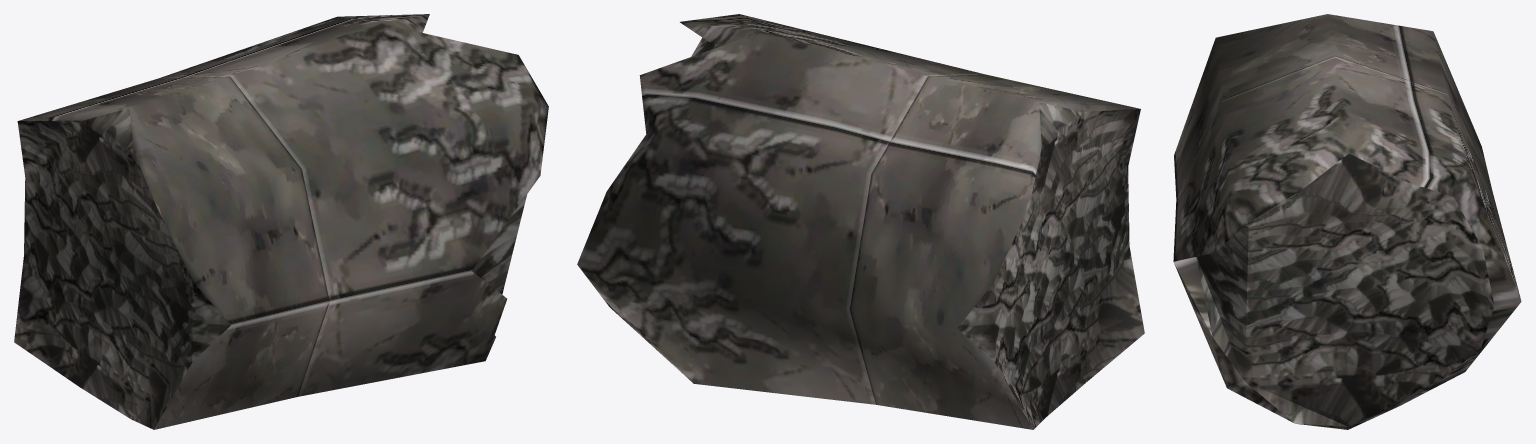
File: INST_SM_COLUMN_BROKEN_PIECEB.fbx
3 renders of one model, left to right at view 1: azimuth 30°, elevation 25°; view 2: azimuth 150°, elevation 25°; view 3: azimuth 270°, elevation 25°, orthographic. The views are drawn at different scales.
Parts seen in each view (by area): view 1: INST_SM_COLUMN_BROKEN_PIECEB; view 2: INST_SM_COLUMN_BROKEN_PIECEB; view 3: INST_SM_COLUMN_BROKEN_PIECEB.
Part boxes in pixels (bbox=[...]): INST_SM_COLUMN_BROKEN_PIECEB: bbox=[14, 14, 548, 429]; INST_SM_COLUMN_BROKEN_PIECEB: bbox=[577, 14, 1144, 429]; INST_SM_COLUMN_BROKEN_PIECEB: bbox=[1173, 14, 1521, 429].
Size of the model in its own units: 29262 by 22609 by 23566.
Materials: 3 (3 with a texture image).
